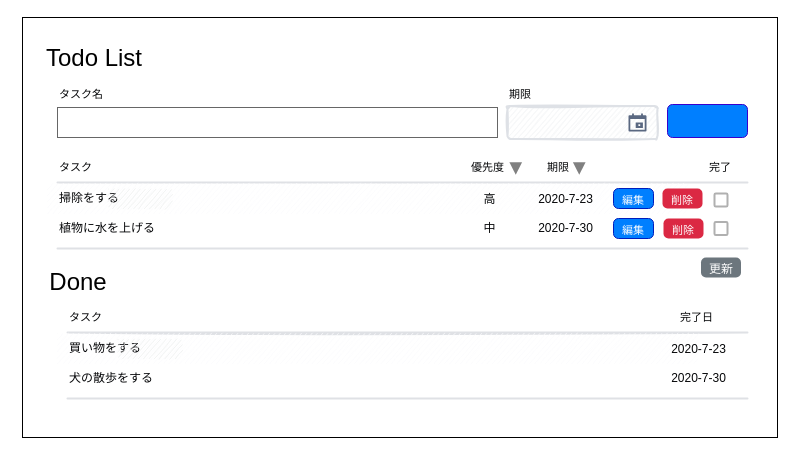
Image size: 795x455. Some labels were removed from this diagram. The centre of each missing label's shape, as x and y in pixels:
"入力欄" goes at point 277,122.
"年/月/日" goes at point 582,122.
"新規追加" goes at point 707,121.
